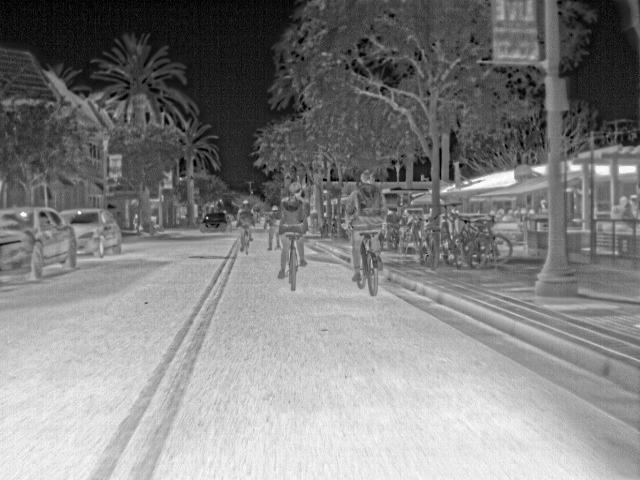car: (0, 206, 77, 282), (75, 206, 122, 259), (198, 211, 232, 233)
person: (350, 168, 388, 232), (281, 179, 308, 235), (266, 204, 280, 252), (237, 198, 256, 227), (609, 195, 629, 220), (399, 207, 414, 226), (536, 198, 548, 213), (131, 213, 139, 233)
